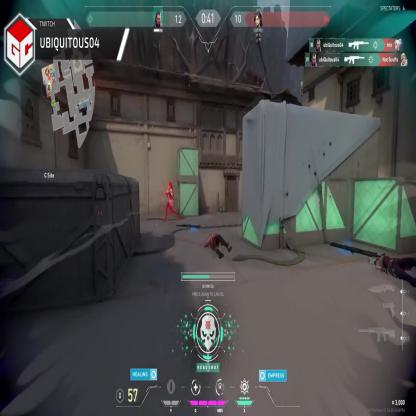enemy: (164, 180, 180, 224)
enemy_head: (168, 182, 171, 191)
